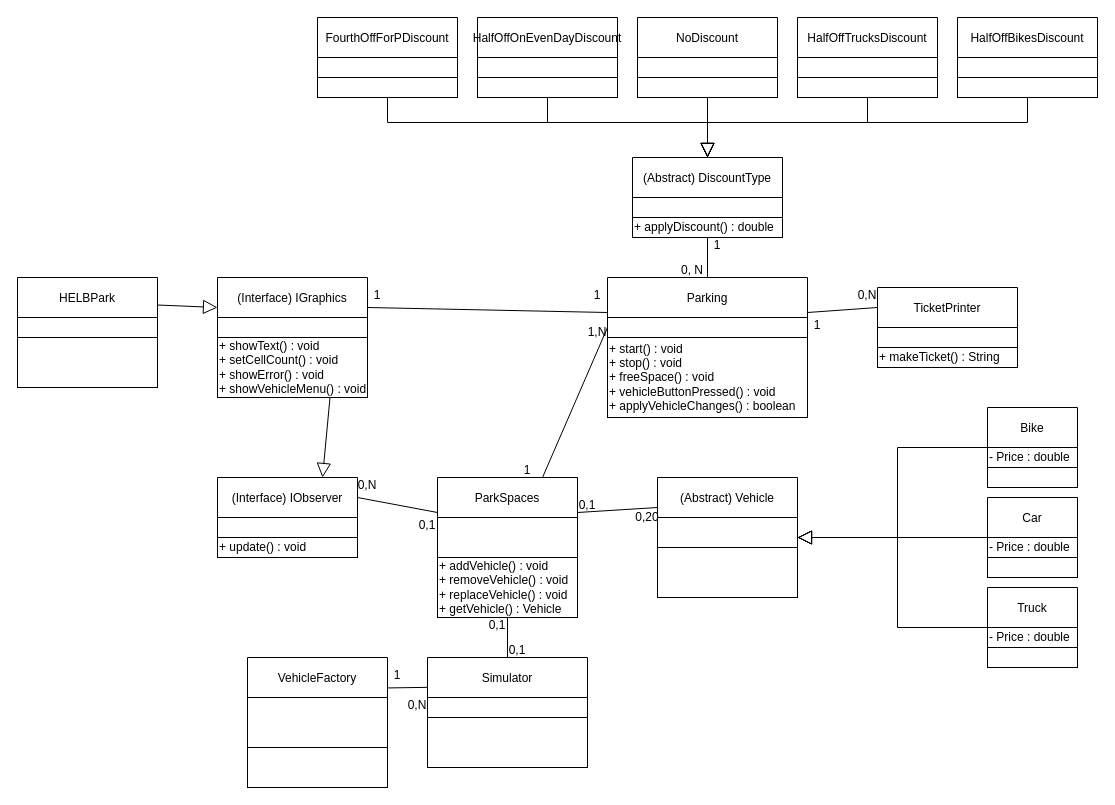
Some shapes in this 1115 by 805 pixel diagram are drawn without their labels. Here are the shapes that lost their labels. From the top down, the centre of each, then its label:
point 87,327: + MAX_COLUMNS : int
point 87,362: + start() : void + stop() : void + updateButtons() : void
point 507,537: - Spots : Vehicle[]
point 727,532: - Plate : String
point 727,572: + getBasePrice() : double + getPlate() : String + getType() : String
point 317,722: + BIKE : String + TRUCK : String + CAR : String
point 507,707: - FILENAME : String
point 507,742: + startSimulation() : void + stopSimulation() : void + getInstance() : Simulator
point 317,767: + getTypes() : String[] + makeVehicle() : Vehicle
